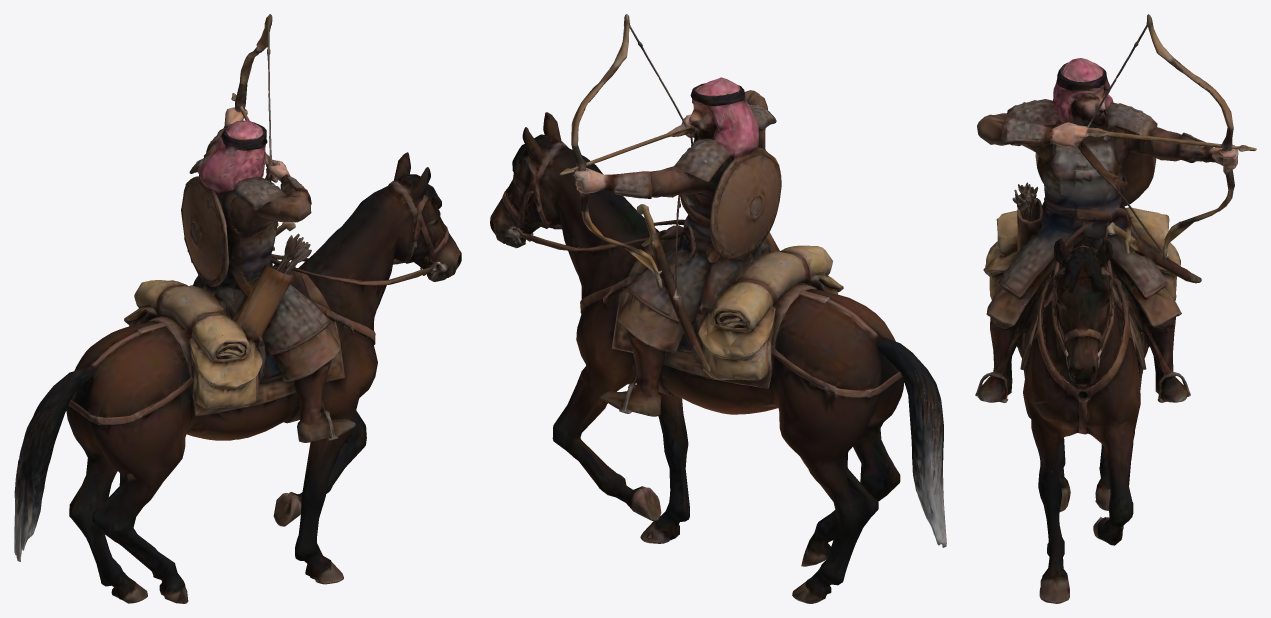
File: horse-archer.glb
3 views of the same model, side by side, from view 1: azimuth 30°, elevation 25°; view 2: azimuth 150°, elevation 25°; view 3: azimuth 270°, elevation 25° (orthographic). The views are drawn at different scales.
Parts seen in each view (by area): view 1: tripo_node_65b992ba-fdd6-419d-bb5e-a378573e9951; view 2: tripo_node_65b992ba-fdd6-419d-bb5e-a378573e9951; view 3: tripo_node_65b992ba-fdd6-419d-bb5e-a378573e9951.
Boxes of the visible parts, x1,y1,x2,y2 form: tripo_node_65b992ba-fdd6-419d-bb5e-a378573e9951: (14, 14, 461, 603); tripo_node_65b992ba-fdd6-419d-bb5e-a378573e9951: (490, 14, 946, 603); tripo_node_65b992ba-fdd6-419d-bb5e-a378573e9951: (975, 14, 1256, 603).
Size of the model in its own units: 0.8532 by 0.9999 by 0.4431.
1 material, 1 textured.
